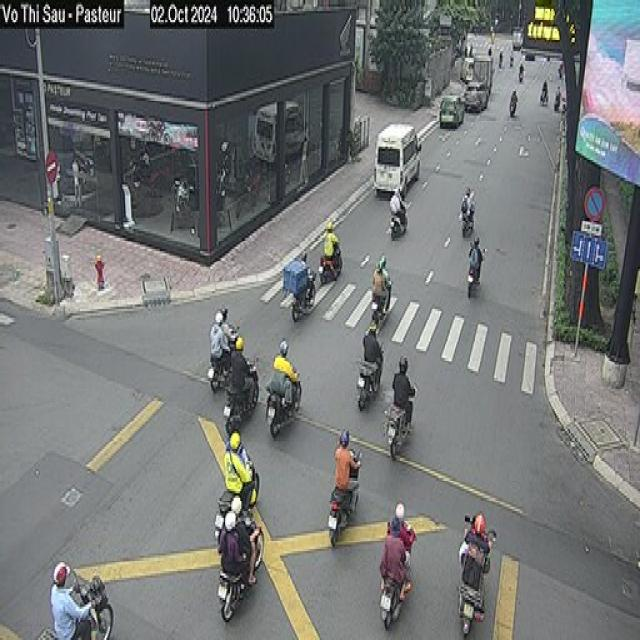car: (374, 118, 423, 198), (462, 80, 493, 115), (438, 90, 463, 132)
motorcycle: (71, 564, 114, 640), (225, 355, 260, 433), (213, 567, 250, 625), (266, 386, 299, 443), (378, 576, 410, 630), (384, 403, 412, 464), (458, 580, 486, 640), (351, 355, 377, 411), (326, 490, 350, 550), (292, 275, 317, 324), (205, 352, 228, 400), (316, 251, 345, 286), (388, 208, 409, 242), (464, 261, 478, 296), (459, 215, 478, 238)
person: (51, 566, 86, 640), (379, 510, 409, 595), (462, 511, 490, 594), (231, 494, 255, 590), (224, 420, 249, 504), (338, 426, 358, 518), (276, 338, 299, 417), (223, 512, 243, 590), (393, 350, 412, 430), (231, 335, 251, 407), (393, 499, 414, 561), (364, 317, 380, 388), (210, 308, 224, 367), (222, 306, 236, 362), (379, 255, 393, 306), (326, 219, 338, 266), (300, 242, 309, 298), (373, 260, 384, 304), (395, 186, 408, 222), (462, 187, 474, 219), (391, 187, 400, 223)
truck: (472, 53, 494, 98)
